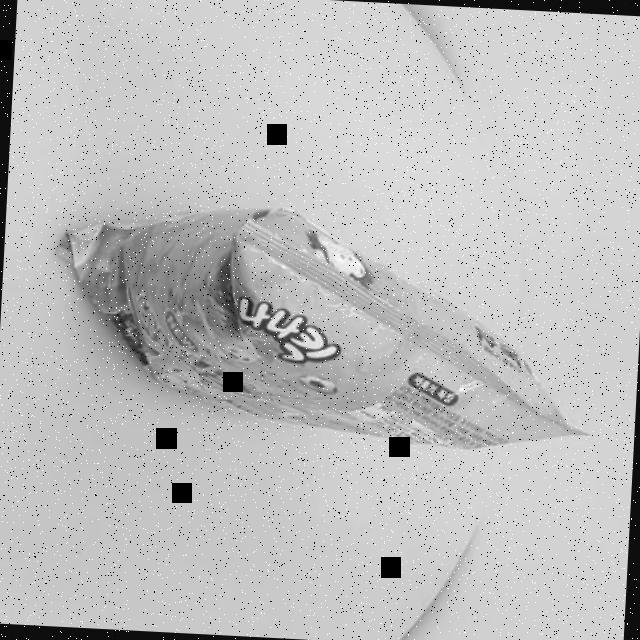snack_bag: (32, 167, 602, 476)
